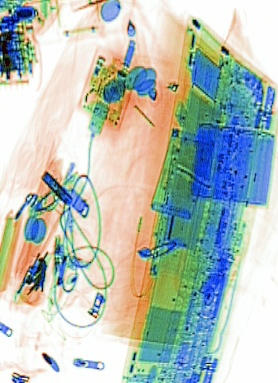powerbank: (188, 120, 276, 207)
